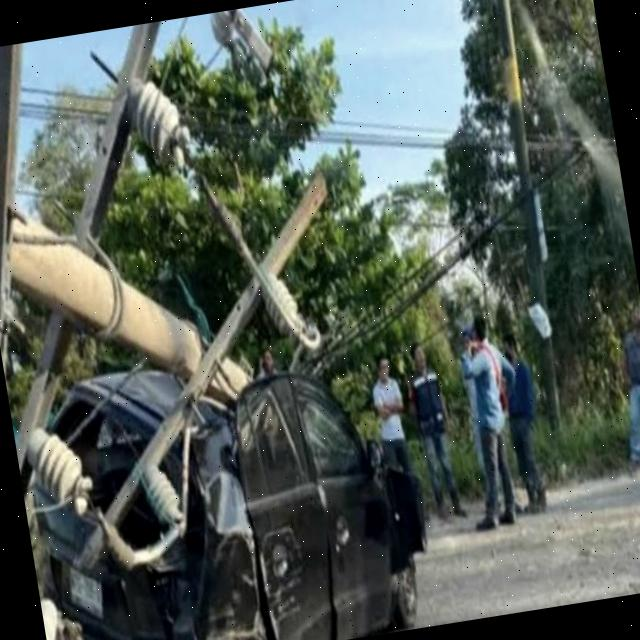Broken Pole: (0, 24, 329, 582)
